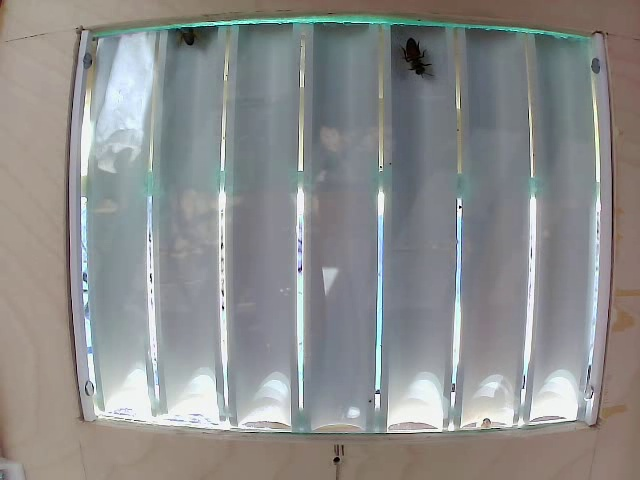bee: (389, 27, 430, 87), (169, 19, 216, 66)
